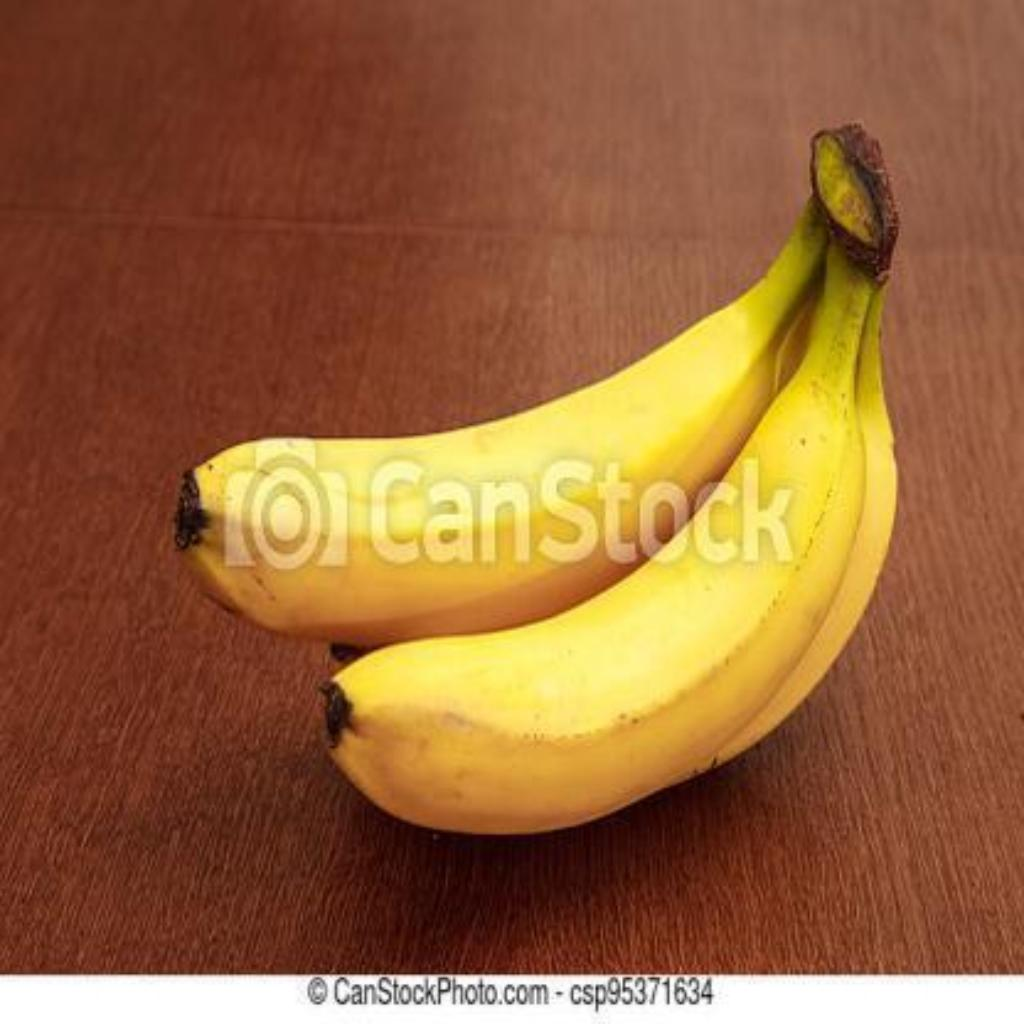banana: (320, 130, 898, 842), (175, 271, 805, 655)
